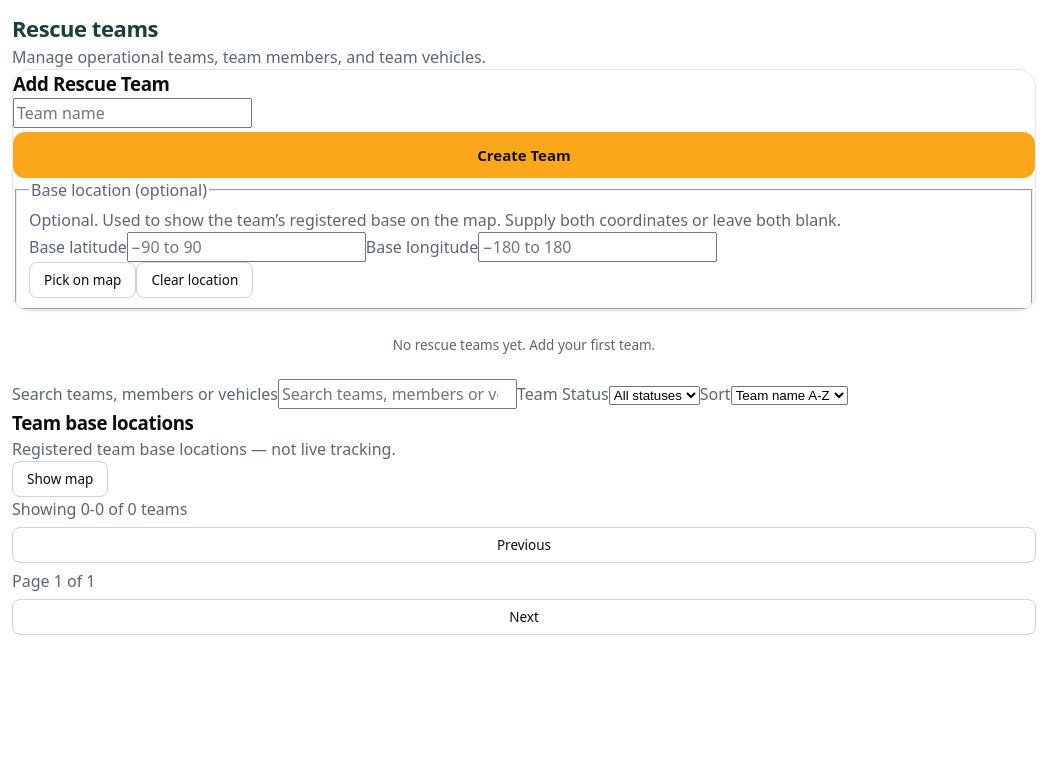
Test: optional base coordinate inputs › create validation › rejects 7,  without an API request
In the field labelled "Team name": (132, 113) [13, 98, 252, 128], type "Kandy"
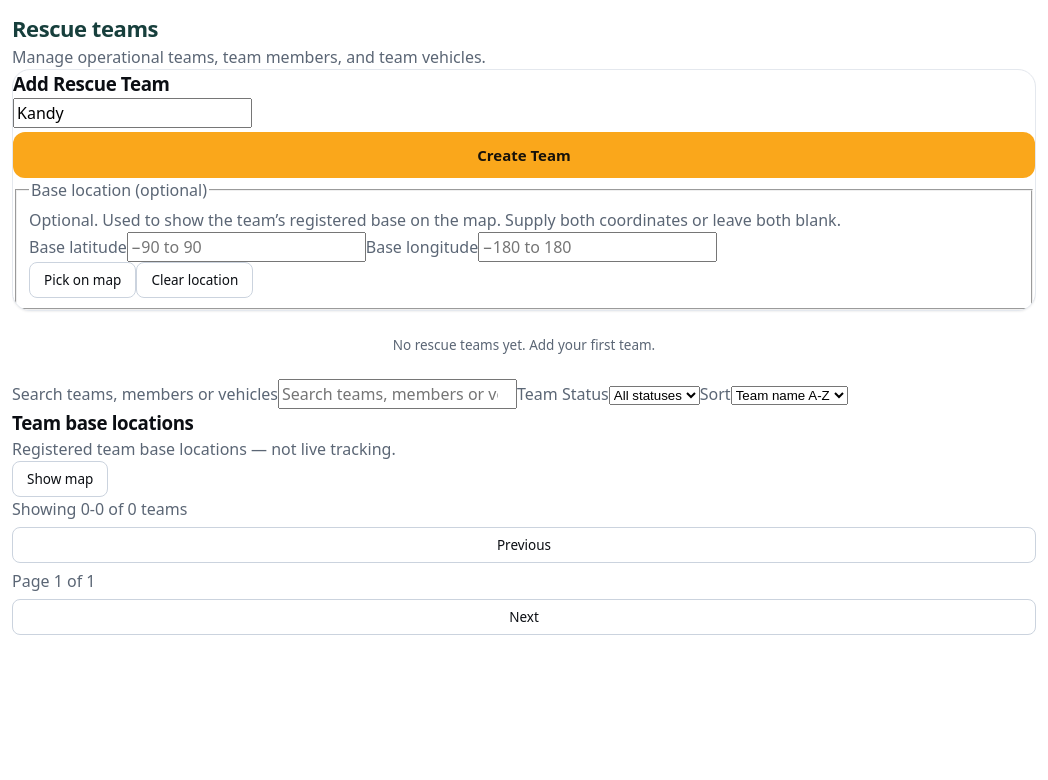
In the field labelled "Base latitude": (246, 247) [127, 232, 366, 262], type "7"
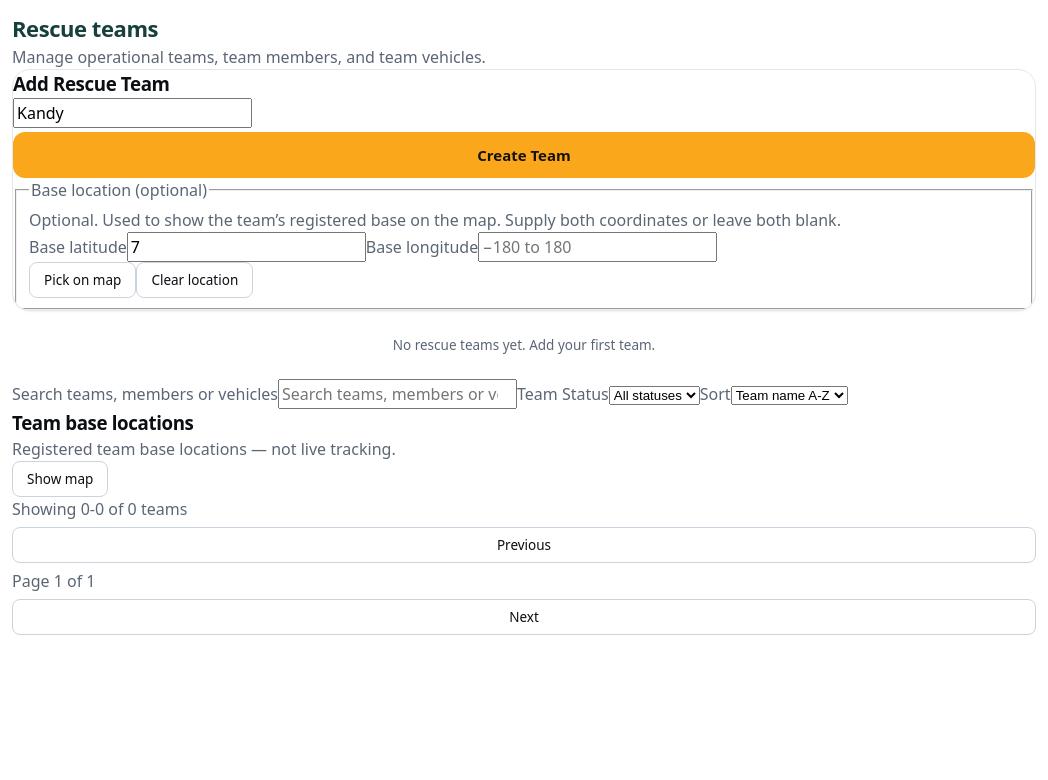
Submit the form "Create Team", box [12, 69, 1036, 311]
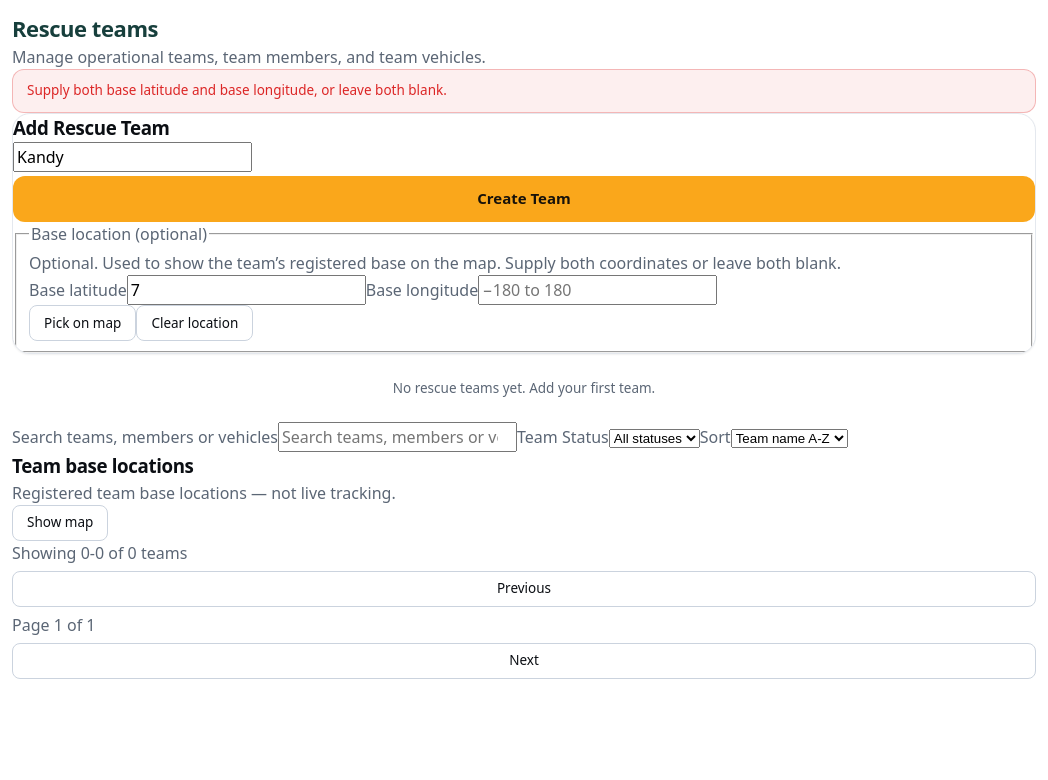
Result: the message shows "Supply both" at [27, 81, 447, 99]
